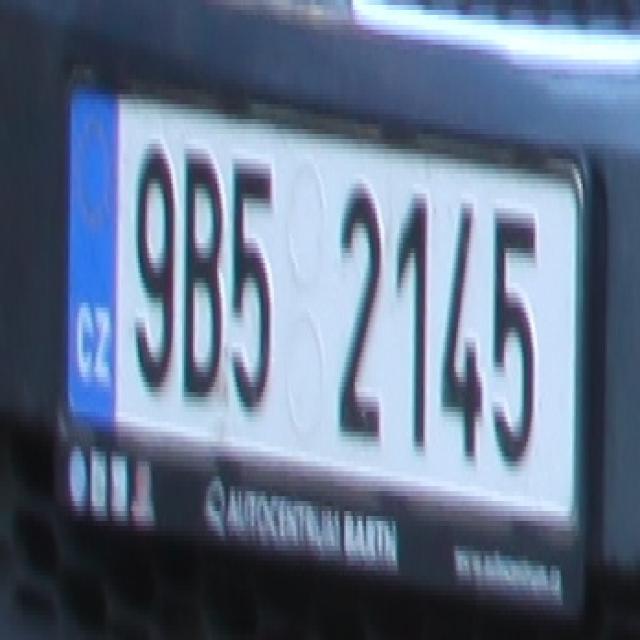1: (394, 174, 434, 452)
2: (333, 168, 384, 446)
4: (438, 188, 483, 466)
5: (489, 204, 539, 476), (232, 144, 274, 407)
9: (130, 134, 176, 387)
B: (182, 139, 226, 402)
